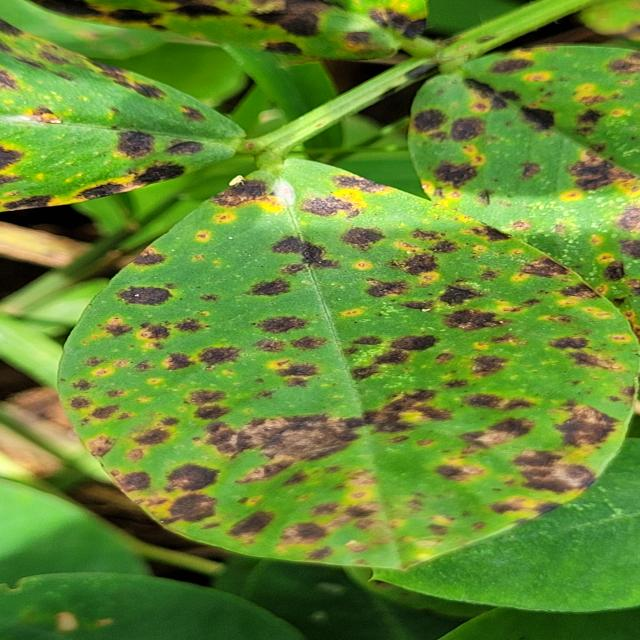Ground nut_tikka leaf spot: (60, 159, 640, 566)
